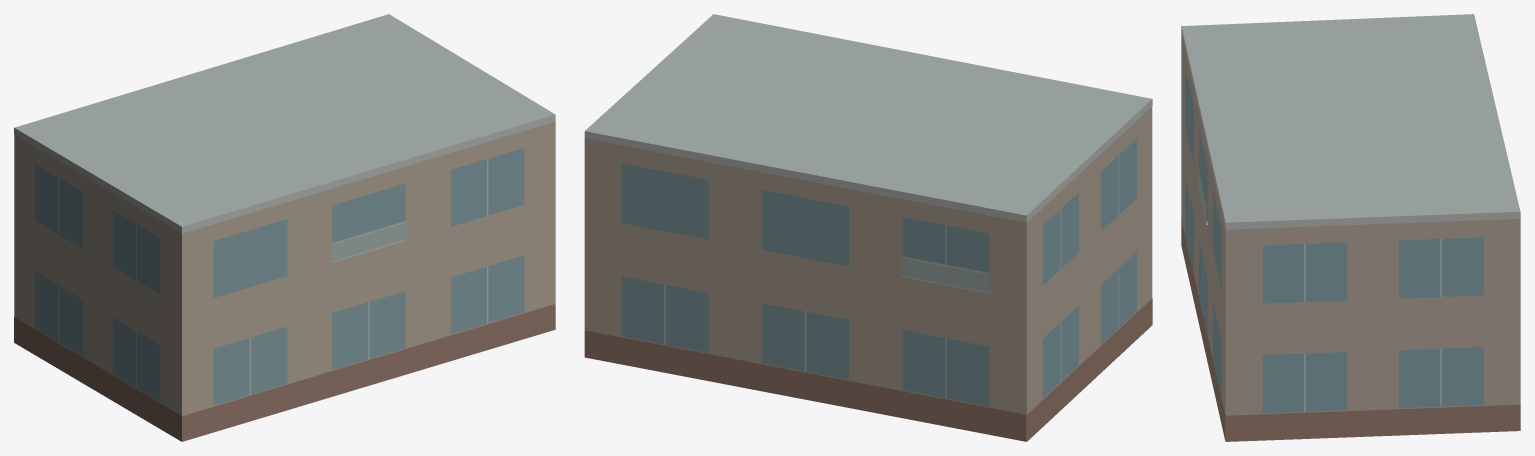
The model's file is survey-upis-32642115.glb.
3 views of the same model, side by side, from view 1: azimuth 30°, elevation 25°; view 2: azimuth 150°, elevation 25°; view 3: azimuth 270°, elevation 25° (orthographic). The views are drawn at different scales.
Parts seen in each view (by area): view 1: survey-upis-32642115.tmp; view 2: survey-upis-32642115.tmp; view 3: survey-upis-32642115.tmp.
Boxes of the visible parts, bbox=[...] form: survey-upis-32642115.tmp: bbox=[14, 14, 555, 441]; survey-upis-32642115.tmp: bbox=[584, 14, 1152, 441]; survey-upis-32642115.tmp: bbox=[1181, 14, 1520, 441].
Bounding box in the file's own units: 15.53 × 7.6 × 10.67.
